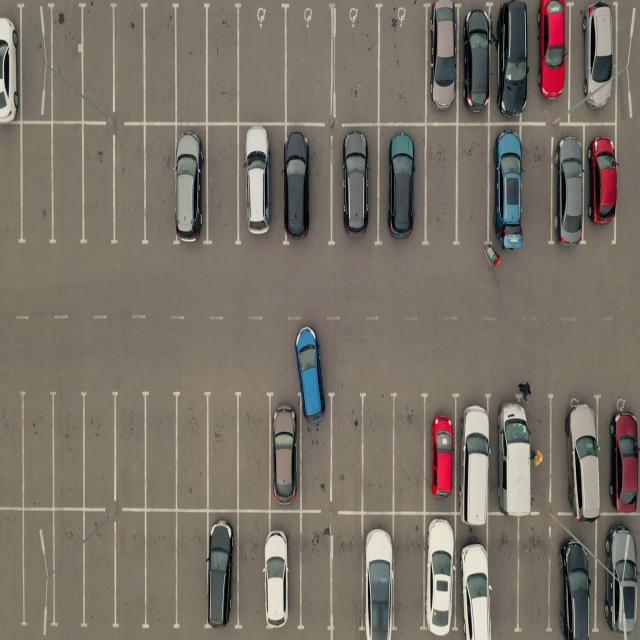space-empty: (375, 4, 425, 125), (237, 5, 288, 123), (286, 7, 337, 124), (332, 6, 380, 124), (45, 512, 87, 630), (16, 126, 54, 248), (204, 5, 242, 124), (142, 4, 180, 123), (46, 2, 84, 121), (518, 514, 556, 631), (175, 4, 212, 124), (176, 393, 214, 509), (78, 391, 116, 507), (457, 125, 493, 247), (331, 514, 367, 636), (78, 129, 115, 247), (111, 4, 148, 122), (112, 129, 149, 247), (17, 511, 54, 629), (115, 391, 152, 508), (79, 512, 116, 629), (50, 128, 86, 248), (143, 392, 180, 508), (50, 395, 87, 511), (17, 390, 54, 506), (142, 512, 178, 631), (206, 125, 242, 244), (115, 512, 151, 631), (78, 2, 114, 121), (392, 398, 429, 512), (238, 391, 274, 508), (235, 512, 270, 632), (141, 123, 176, 242), (358, 396, 394, 510), (330, 393, 366, 506), (15, 4, 50, 120), (423, 126, 457, 245), (394, 514, 427, 636), (205, 394, 240, 509), (296, 514, 330, 632), (177, 512, 210, 631), (487, 516, 519, 636), (298, 396, 331, 508), (524, 124, 554, 244), (0, 386, 24, 506), (0, 510, 24, 630), (0, 125, 23, 248)
space-occupied: (282, 128, 330, 247), (554, 393, 600, 516), (490, 390, 535, 514), (552, 517, 598, 637), (571, 2, 617, 121), (382, 122, 428, 240), (332, 129, 378, 245), (240, 124, 283, 246), (532, 0, 572, 119), (600, 518, 640, 637), (601, 399, 640, 518), (458, 393, 496, 514), (493, 2, 530, 122), (424, 5, 461, 124), (422, 514, 458, 636), (458, 518, 494, 638), (422, 394, 458, 512), (488, 125, 522, 248), (265, 512, 300, 631), (552, 126, 587, 242), (361, 514, 394, 637), (176, 128, 210, 247), (267, 391, 301, 507), (462, 7, 495, 124), (207, 512, 238, 631), (584, 126, 615, 236), (0, 4, 21, 122)
